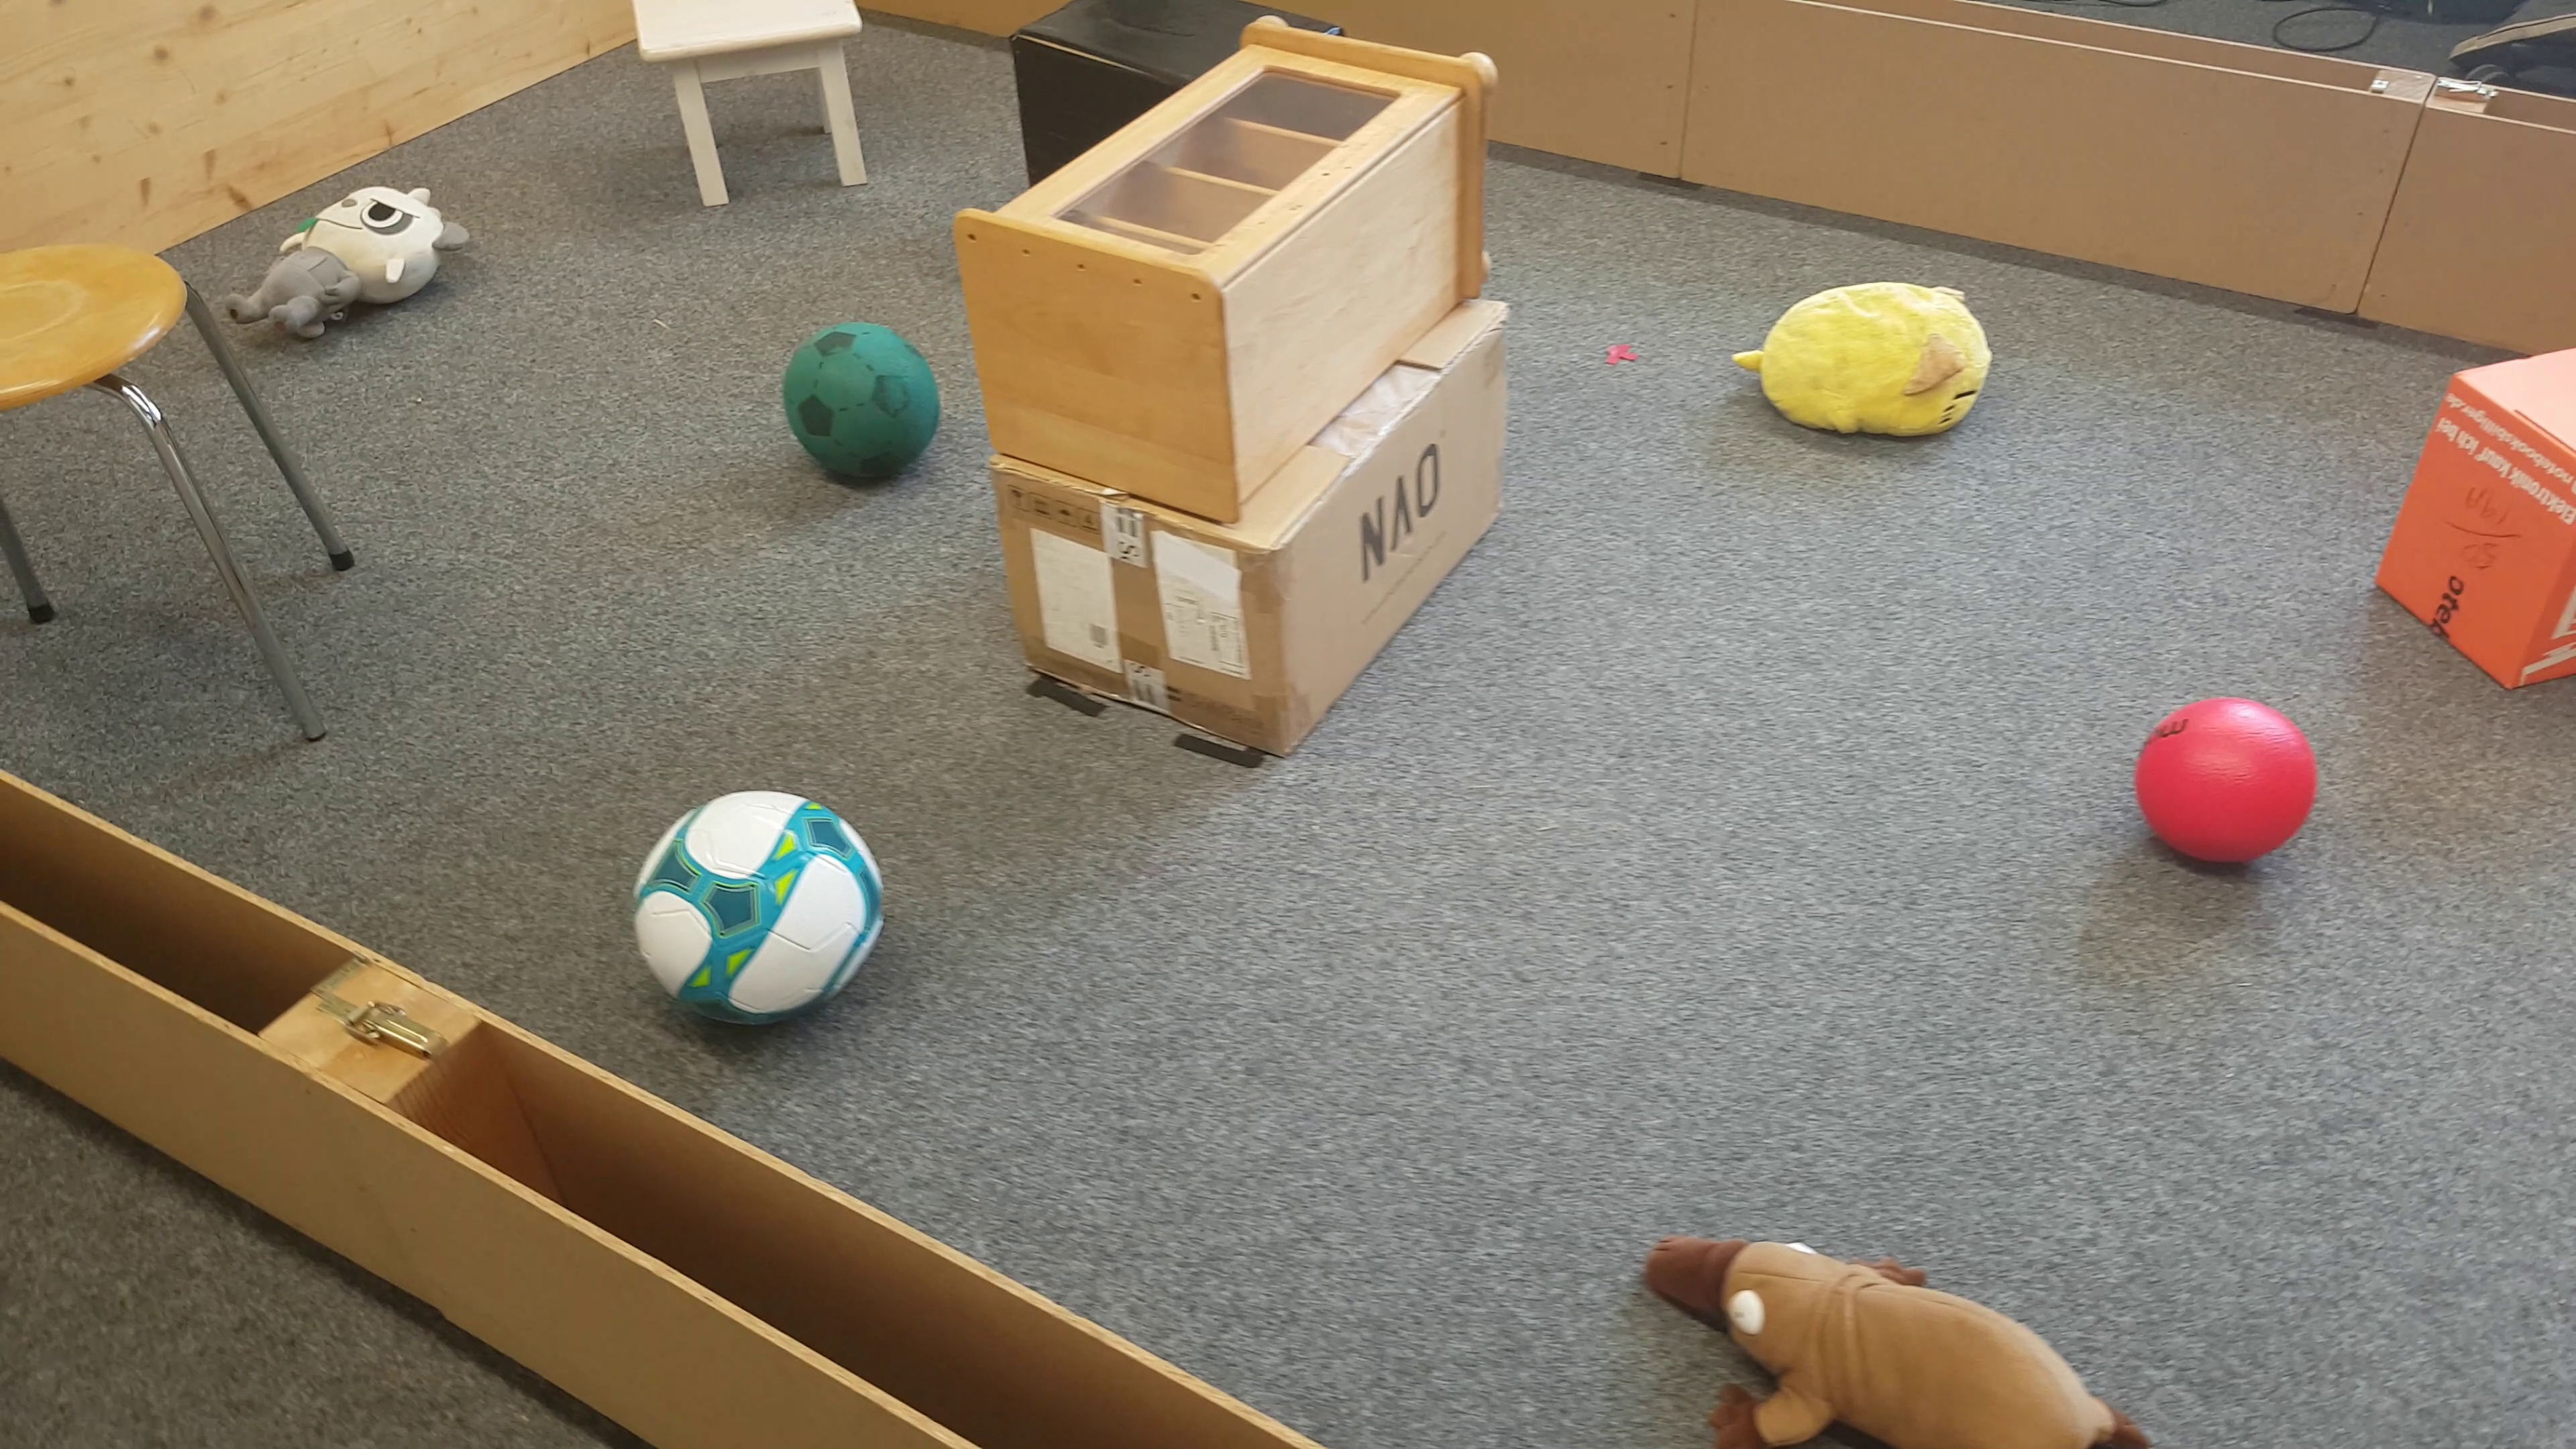grasp: (1645, 1230, 2157, 1449), (1736, 274, 1990, 444), (230, 175, 471, 333)
kick: (637, 796, 886, 1028), (2146, 695, 2318, 874), (784, 326, 947, 490)
push: (2380, 336, 2576, 688), (1016, 4, 1194, 80)
